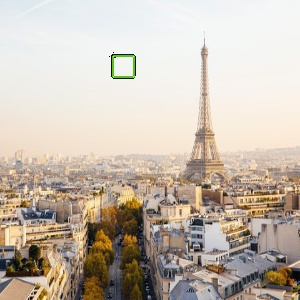square: (109, 53, 138, 80)
